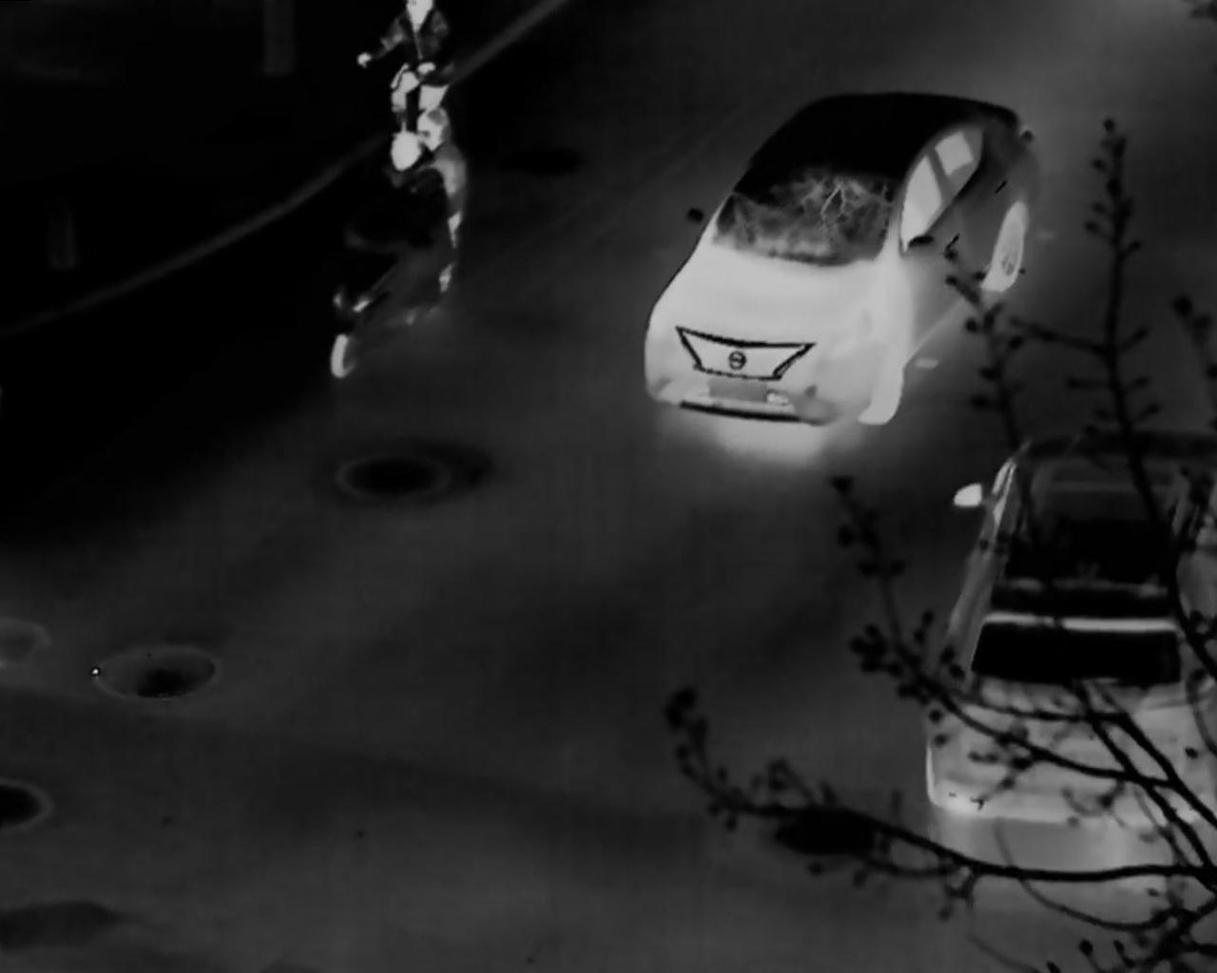person: (352, 2, 454, 134), (417, 105, 472, 291), (366, 129, 428, 178)
